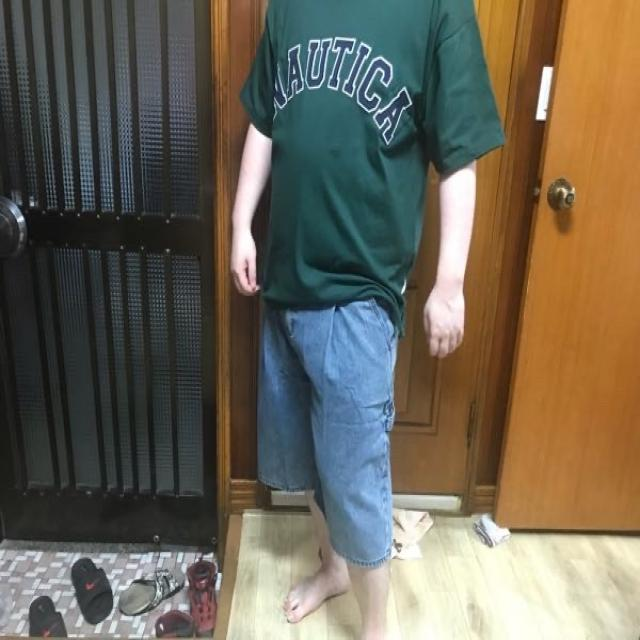shortpants: (255, 291, 398, 566)
shortsleeve: (240, 0, 500, 331)
